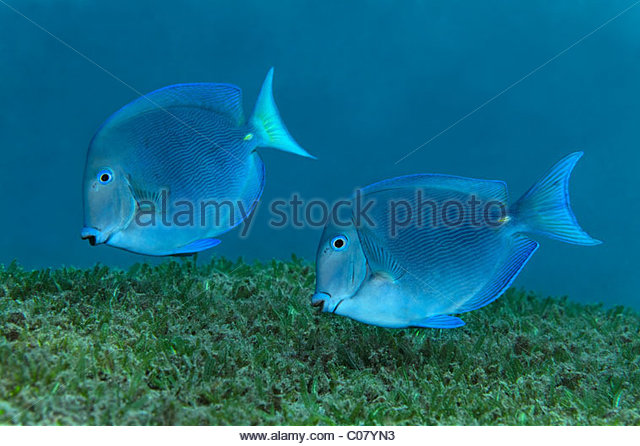Acanthurus_coeruleus: (315, 143, 601, 330), (74, 63, 313, 259)
